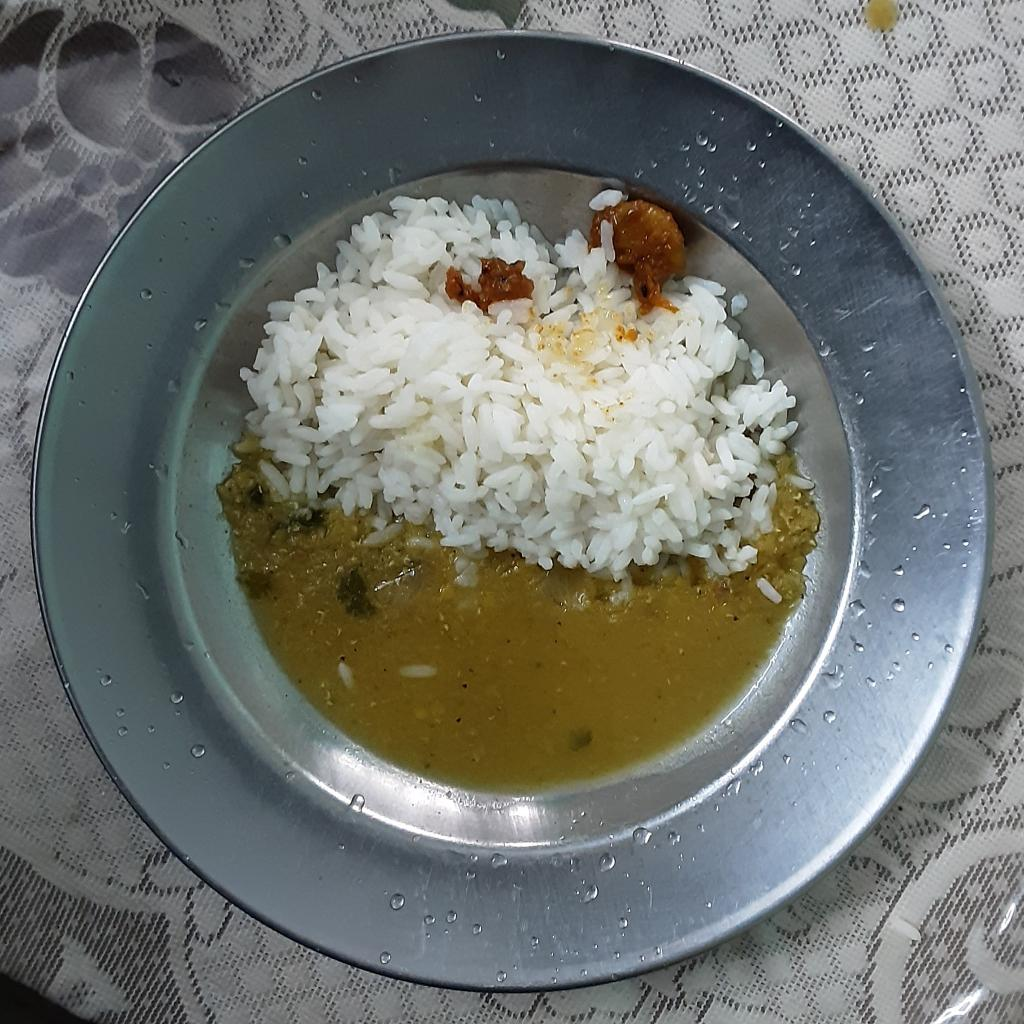achar: (588, 202, 686, 321), (448, 258, 532, 314)
daal: (217, 467, 792, 798), (753, 492, 819, 622)
rice: (231, 199, 817, 611), (396, 663, 433, 683), (334, 662, 353, 694)
